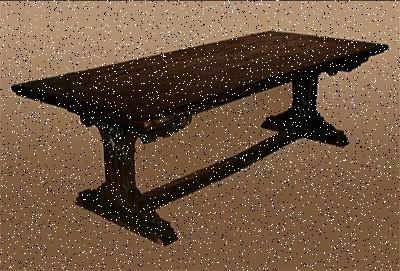Mesa: (11, 26, 390, 248)
